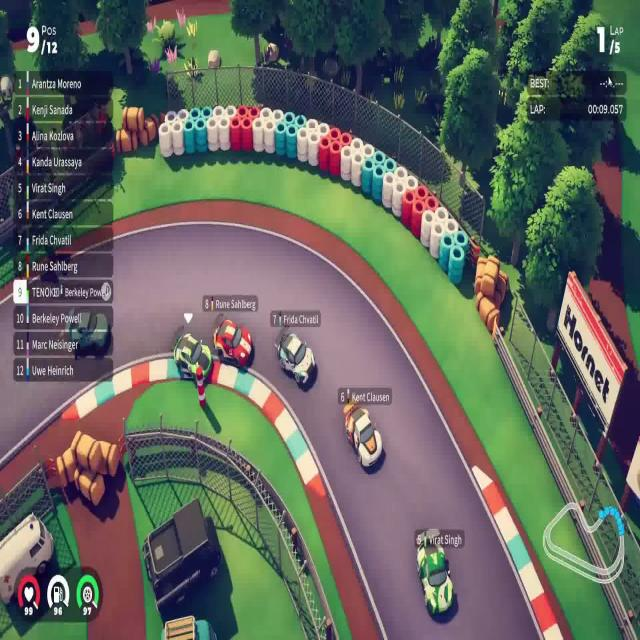car: (414, 528, 454, 618), (342, 399, 383, 469), (212, 316, 254, 370), (275, 330, 315, 386), (172, 332, 213, 383)
